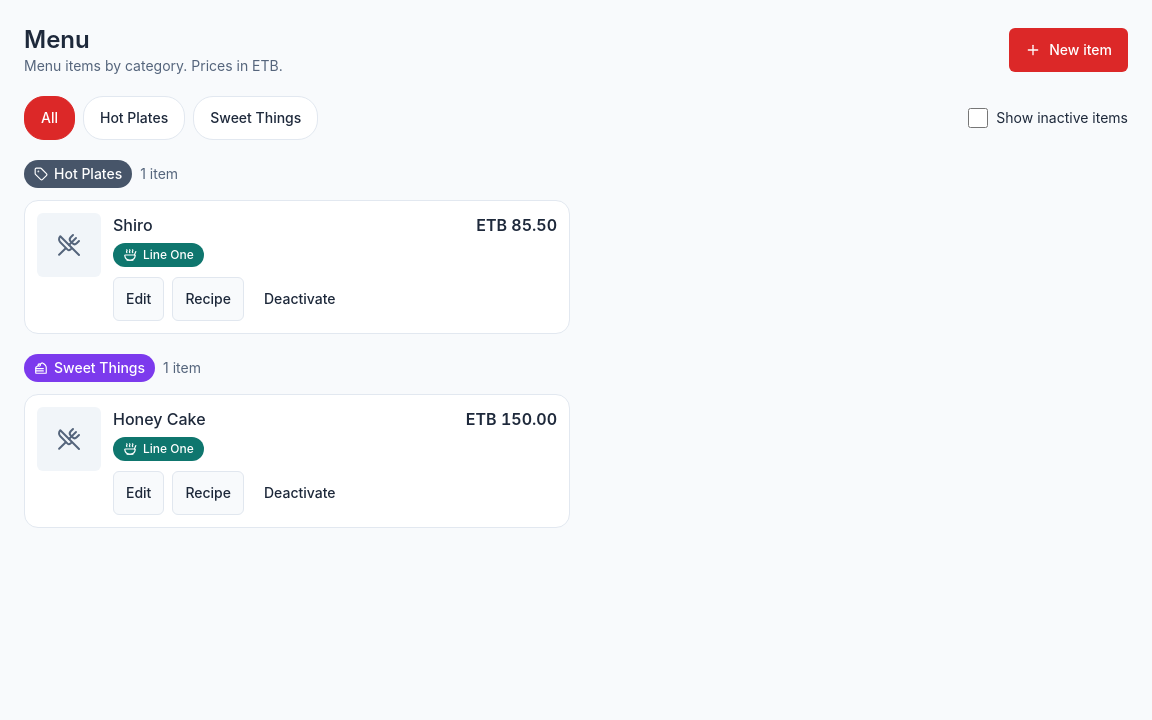
Test case: MenuPage › explains the blocking dependency when a reactivation is refused
Click the checkbox labelled "Show inactive items" at (978, 118), box [968, 108, 988, 128]
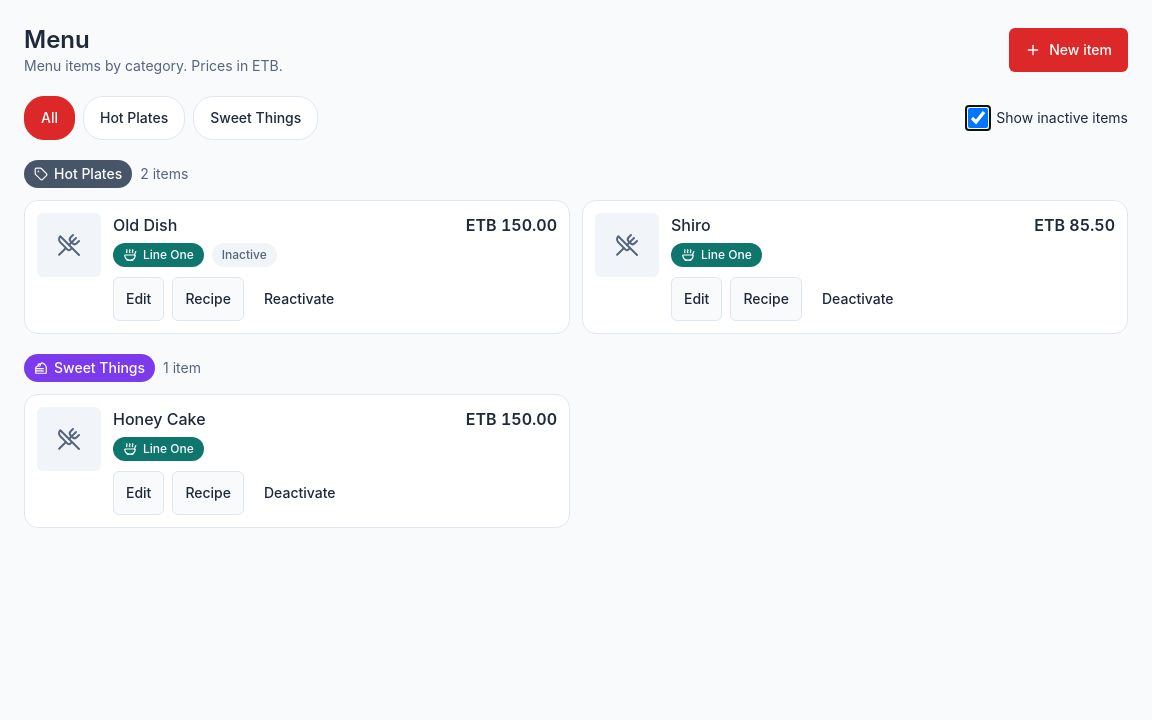
Click the button with aria-label "Reactivate Old Dish" at (299, 299), box [252, 277, 346, 321]
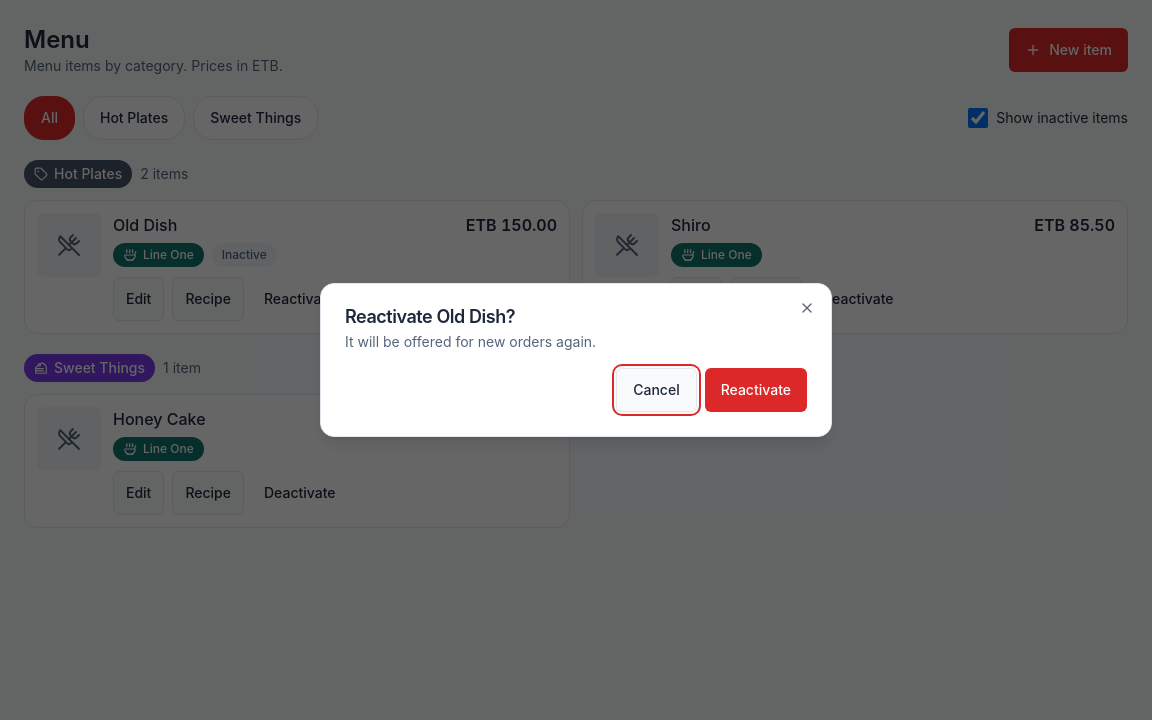
Click the button "Reactivate" at (756, 390), box [705, 368, 807, 412]
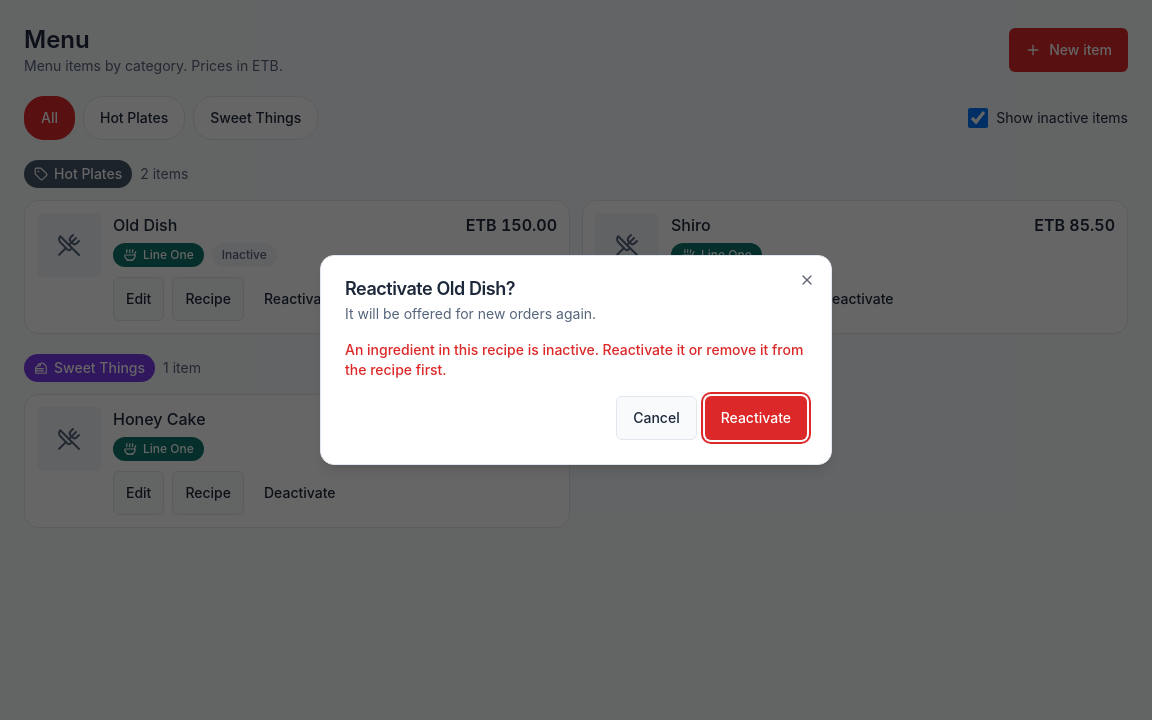
Check: the message shows "ingredient in this recipe is inactive", box [345, 341, 803, 378]
